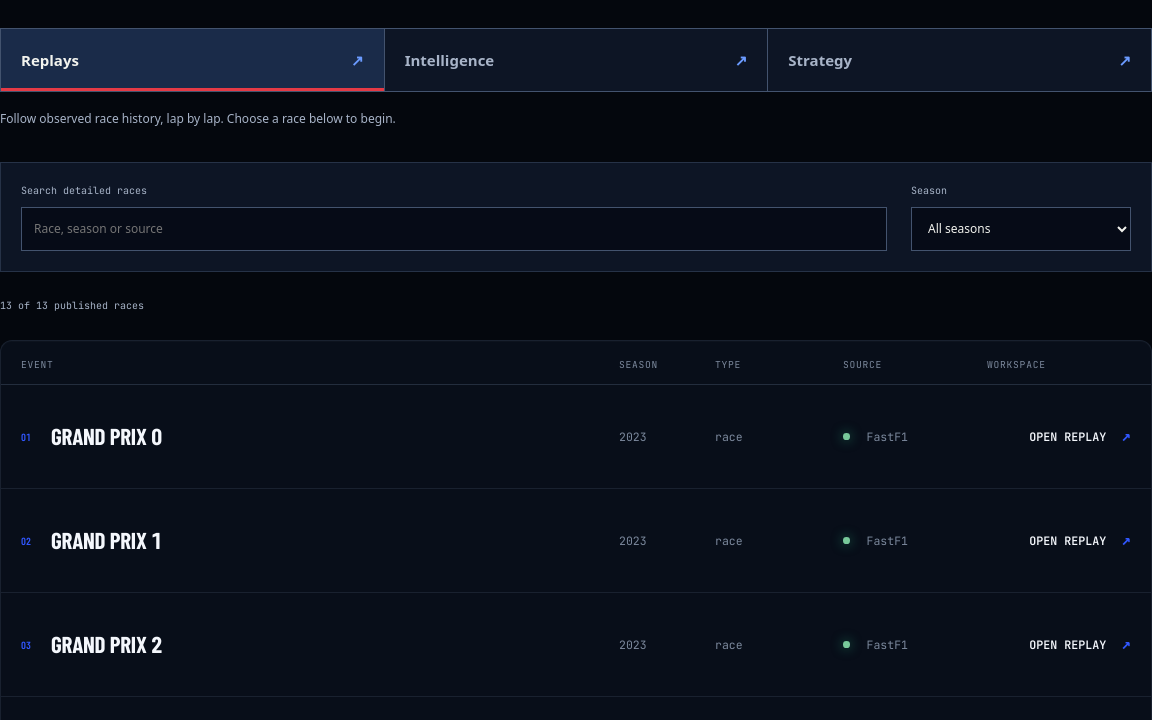
detailed race library › filters the real library without changing its published count or losing races
This screenshot has width=1152, height=720.
Check: the message reads "13 of 13 published races", box [0,297,144,314]
Step 1. Select "2023" in the dropdown labelled "Season" → [1021, 229], box [911,207,1131,251]
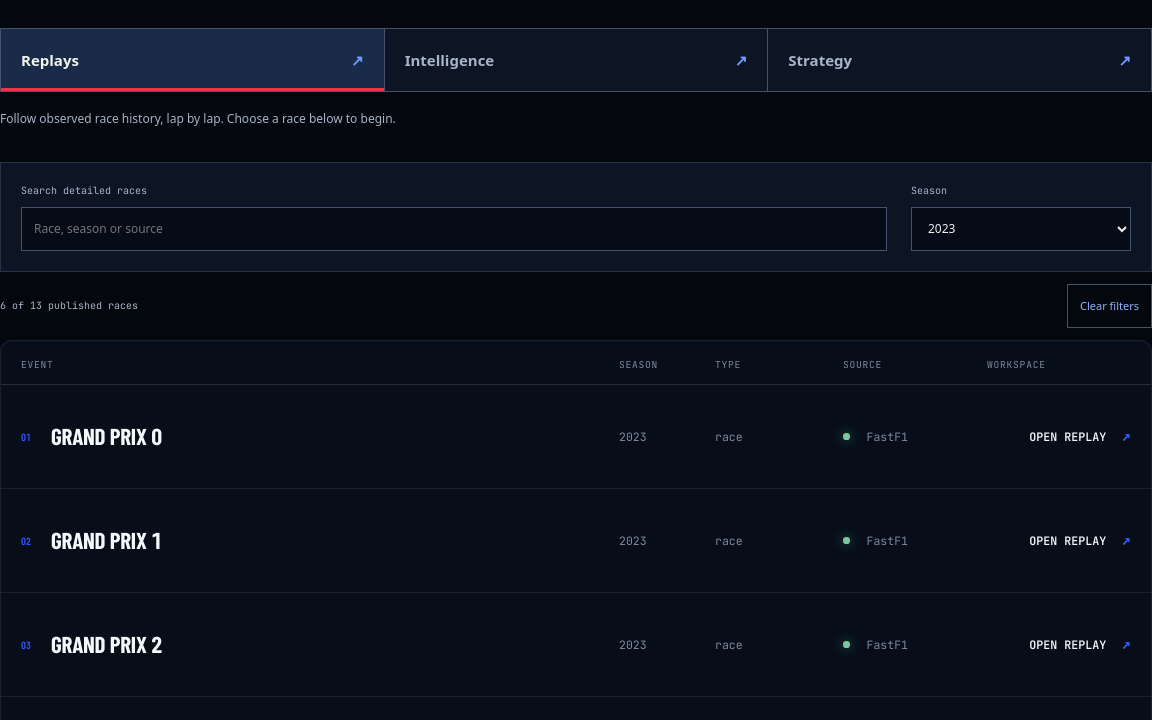
Check: the message reads "6 of 13 published races", box [0,297,138,314]
Step 2. Type "nothing" into the search field labelled "Search detailed races" → [454, 229], box [21,207,887,251]
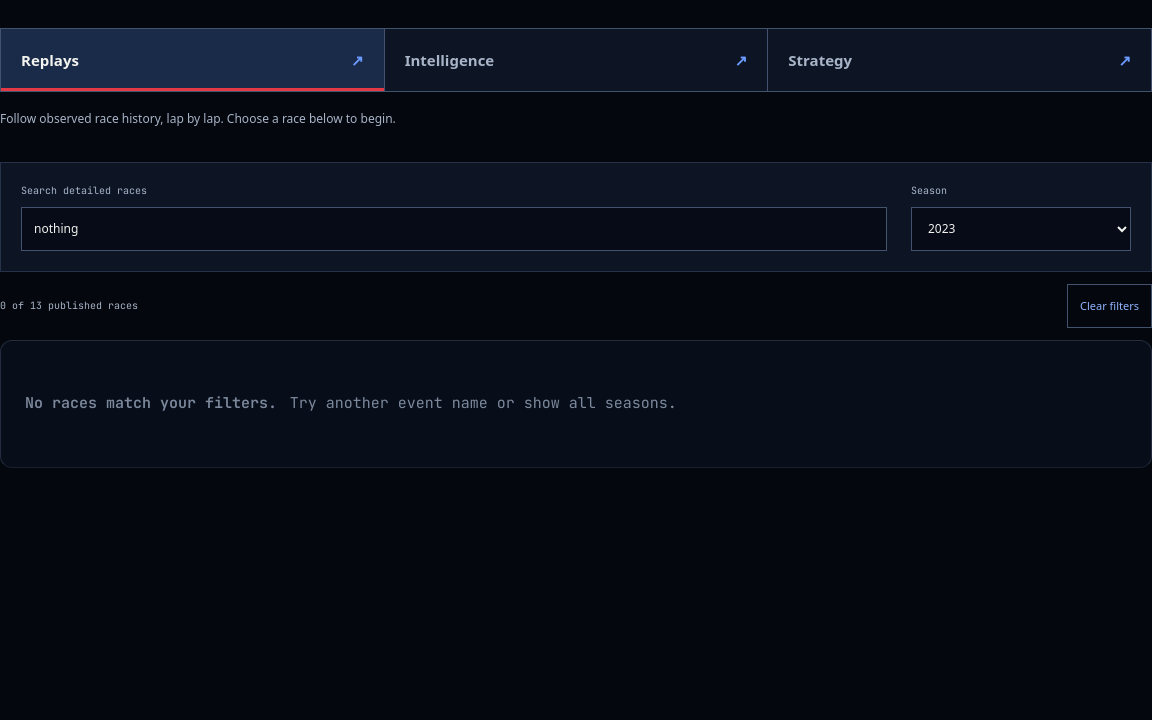
Check: the text "No races match your filters." is shown, box [25,392,277,415]
Step 3. Click the button "Clear filters" → [1110, 306], box [1067,284,1151,328]
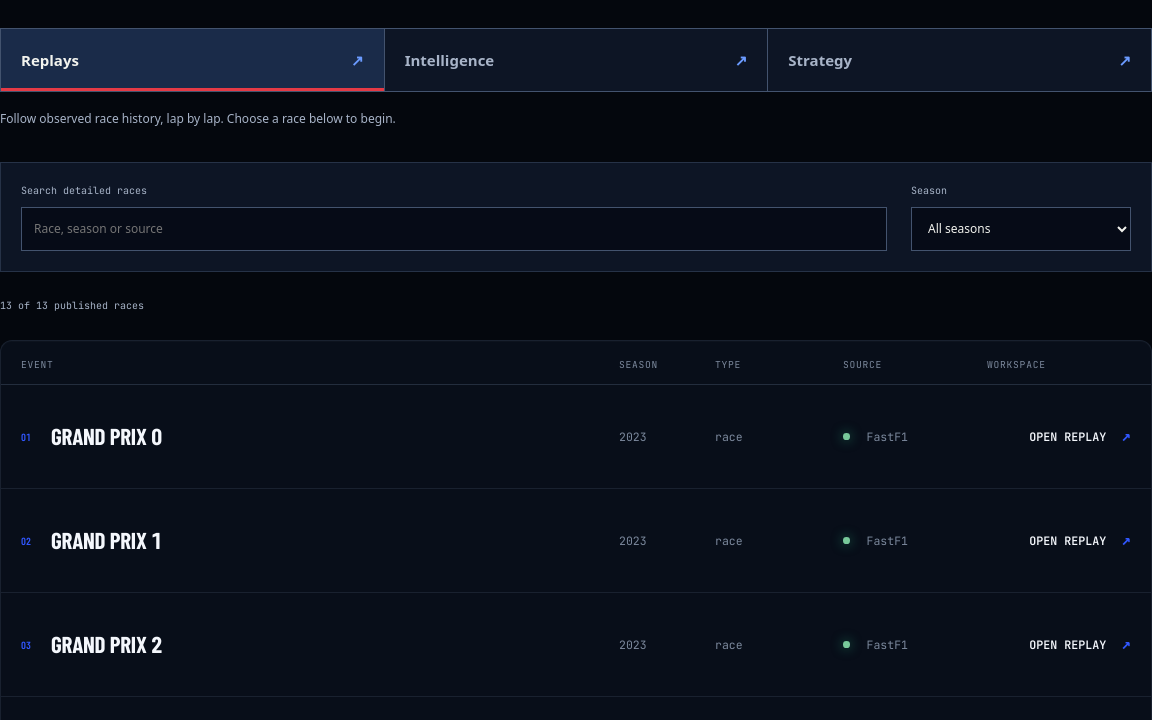
Check: the message reads "13 of 13 published races", box [0,297,144,314]
Check: the number of links "01 Grand Prix 0 2023 race FastF1 Open replay ↗" is 13
